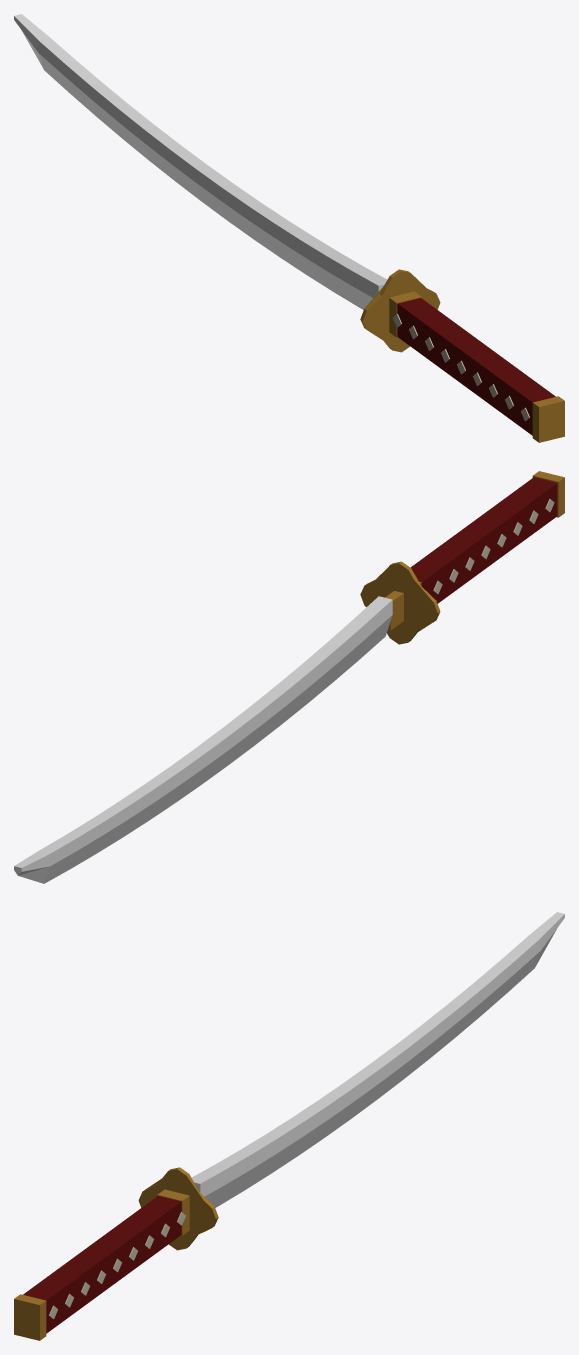
Rendered from katana_fire.glb.
The picture shows the model from 3 angles, top to bottom: view 1: azimuth 30°, elevation 25°; view 2: azimuth 150°, elevation 25°; view 3: azimuth 330°, elevation 25°; orthographic projection.
Visible parts, largest first — view 1: glow, katana_fire; view 2: glow, katana_fire; view 3: glow, katana_fire.
Part boxes in pixels (x1=…): glow: x1=14, y1=14, x2=386, y2=309; katana_fire: x1=360, y1=269, x2=564, y2=442; glow: x1=14, y1=596, x2=392, y2=883; katana_fire: x1=360, y1=471, x2=564, y2=644; glow: x1=192, y1=912, x2=564, y2=1207; katana_fire: x1=14, y1=1167, x2=218, y2=1340.
Bounding box in the file's own units: 0.084 × 0.084 × 1.
